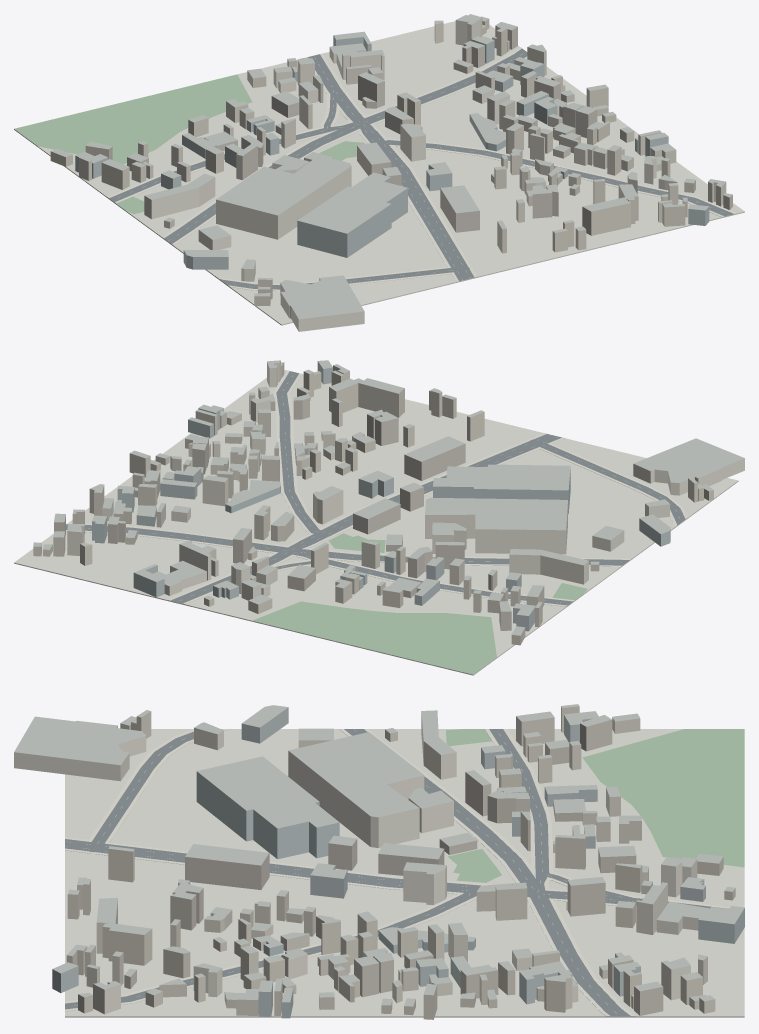
3 views of the same model, one above another, from view 1: azimuth 30°, elevation 25°; view 2: azimuth 150°, elevation 25°; view 3: azimuth 270°, elevation 25° (orthographic). The views are drawn at different scales.
Parts seen in each view (by area): view 1: city; view 2: city; view 3: city.
Part boxes in pixels (box(x1,y1,x2,y2)): city: box(14, 14, 744, 331); city: box(14, 360, 744, 675); city: box(14, 704, 744, 1019).
Size of the model in its own units: 520 by 26 by 538.
